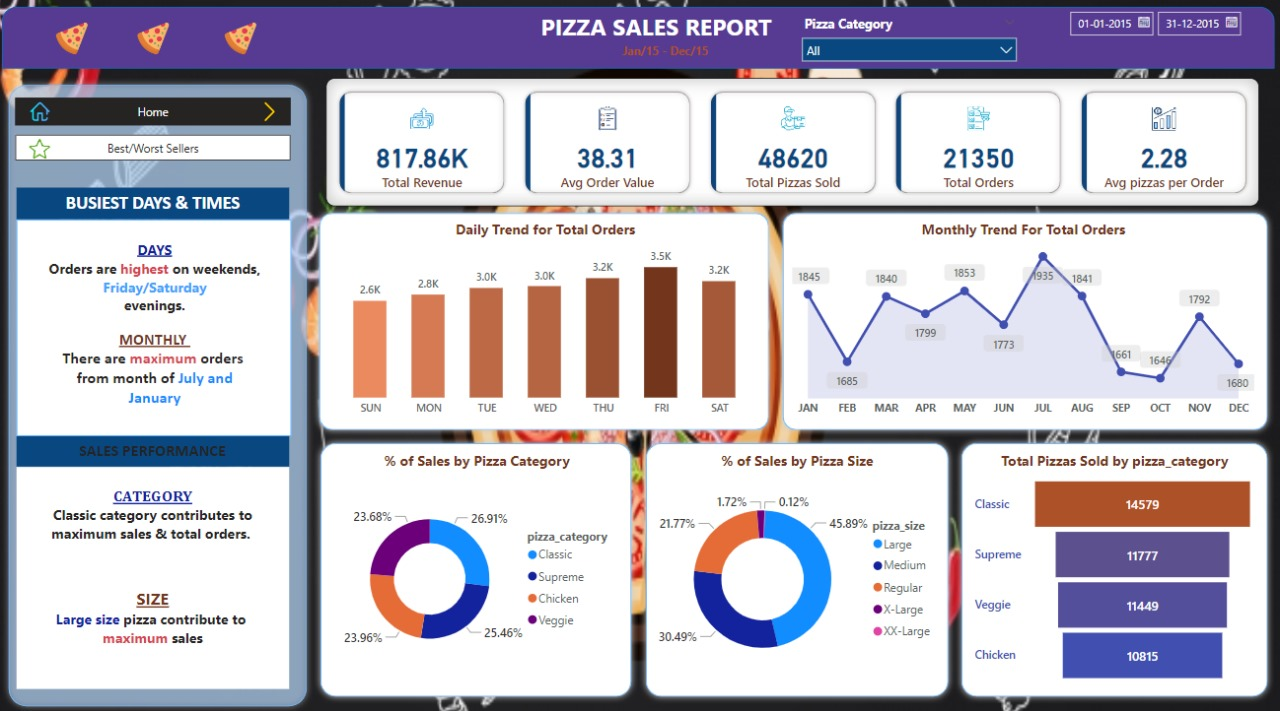

This screenshot's page, from the dashboard's own definition file:
{"tool":"powerbi","page":{"name":"Home","canvas":[1500,830],"ordinal":0},"visuals":[{"type":"cardVisual","fields":{"Data":["pizza_sales.Total_Revenue","pizza_sales.Avg Order Value","pizza_sales.Total Pizzas Sold","pizza_sales.Total_Orders","pizza_sales.Avg pizzas per Order"]},"box":[370.6,81.7,1128.7,159.2],"z":0},{"type":"shape","box":[9.9,9.9,1475.4,71.9],"z":1000},{"type":"textbox","box":[608.8,9.9,312.8,45.1],"z":2000},{"type":"textbox","box":[708.8,46.5,140.9,35.2],"z":3000},{"type":"image","box":[556.6,16.9,76.1,47.9],"z":4000},{"type":"shape","box":[370.6,241,536.9,267.7],"z":5000},{"type":"columnChart","title":"Daily Trend for Total Orders","fields":{"Category":["pizza_sales.Order Day"],"Y":["pizza_sales.Total Orders"]},"box":[386.1,256.5,508.7,236.7],"z":6000},{"type":"shape","box":[907.5,241,577.8,267.7],"z":7000},{"type":"areaChart","title":"Monthly Trend For Total Orders","fields":{"Category":["pizza_sales.Order Month"],"Y":["pizza_sales.Total Orders"]},"box":[921.6,256.5,545.3,236.7],"z":8000},{"type":"shape","box":[9.9,93,349.5,737],"z":9000},{"type":"shape","box":[372,508.7,376.2,310],"z":10000},{"type":"shape","box":[748.3,508.7,366.4,310],"z":11000},{"type":"shape","box":[1114.7,508.7,370.6,310],"z":12000},{"type":"donutChart","title":"% of Sales by Pizza Category","fields":{"Category":["pizza_sales.pizza_category"],"Y":["pizza_sales.Total Revenue"]},"box":[388.9,525.6,343.8,276.2],"z":13000},{"type":"donutChart","title":"% of Sales by Pizza Size","fields":{"Y":["pizza_sales.Total Revenue"],"Category":["pizza_sales.pizza_size"]},"box":[759.5,525.6,343.8,276.2],"z":14000},{"type":"funnel","fields":{"Category":["pizza_sales.pizza_category"],"Y":["pizza_sales.Total Pizzas Sold"]},"box":[1133,525.6,334,276.2],"z":15000},{"type":"textbox","box":[26.8,219.8,315.7,36.6],"z":16000},{"type":"textbox","box":[26.8,256.5,315.7,252.2],"z":17000},{"type":"textbox","box":[26.8,508.7,315.7,35.2],"z":18000},{"type":"textbox","box":[26.8,543.9,315.7,257.9],"z":19000},{"type":"slicer","fields":{"Values":["pizza_sales.pizza_category"]},"box":[927.2,14.1,269.2,64.8],"z":20000},{"type":"slicer","fields":{"Values":["pizza_sales.order_date"]},"box":[1235.8,5.6,231.1,69],"z":21000},{"type":"pageNavigator","box":[25.7,115.7,319.7,32.1],"z":22000},{"type":"pageNavigator","box":[25.7,159.1,319.7,30.5],"z":23000},{"type":"image","box":[255.5,115.7,130.1,32.1],"z":24000},{"type":"image","box":[26.7,115.6,54.4,32.2],"z":25000},{"type":"image","box":[37,148,34,52],"z":26000}]}

Visuals, with their boxes in screenshot pixels (x1, y1, x2, y2), scaled from the page's 1500x830 canvas onto the 1280x711 screenshot:
cardVisual - pizza_sales.Total_Revenue x pizza_sales.Avg Order Value: left=316, top=70, right=1279, bottom=206
shape: left=8, top=8, right=1267, bottom=70
textbox: left=520, top=8, right=786, bottom=47
textbox: left=605, top=40, right=725, bottom=70
image: left=475, top=14, right=540, bottom=56
shape: left=316, top=206, right=774, bottom=436
"Daily Trend for Total Orders" columnChart: left=329, top=220, right=764, bottom=422
shape: left=774, top=206, right=1267, bottom=436
"Monthly Trend For Total Orders" areaChart: left=786, top=220, right=1252, bottom=422
shape: left=8, top=80, right=307, bottom=710
shape: left=317, top=436, right=638, bottom=701
shape: left=639, top=436, right=951, bottom=701
shape: left=951, top=436, right=1267, bottom=701
"% of Sales by Pizza Category" donutChart: left=332, top=450, right=625, bottom=687
"% of Sales by Pizza Size" donutChart: left=648, top=450, right=941, bottom=687
funnel - pizza_sales.pizza_category x pizza_sales.Total Pizzas Sold: left=967, top=450, right=1252, bottom=687
textbox: left=23, top=188, right=292, bottom=220
textbox: left=23, top=220, right=292, bottom=436
textbox: left=23, top=436, right=292, bottom=466
textbox: left=23, top=466, right=292, bottom=687
slicer - pizza_sales.pizza_category: left=791, top=12, right=1021, bottom=68
slicer - pizza_sales.order_date: left=1055, top=5, right=1252, bottom=64
pageNavigator: left=22, top=99, right=295, bottom=127
pageNavigator: left=22, top=136, right=295, bottom=162
image: left=218, top=99, right=329, bottom=127
image: left=23, top=99, right=69, bottom=127
image: left=32, top=127, right=61, bottom=171
